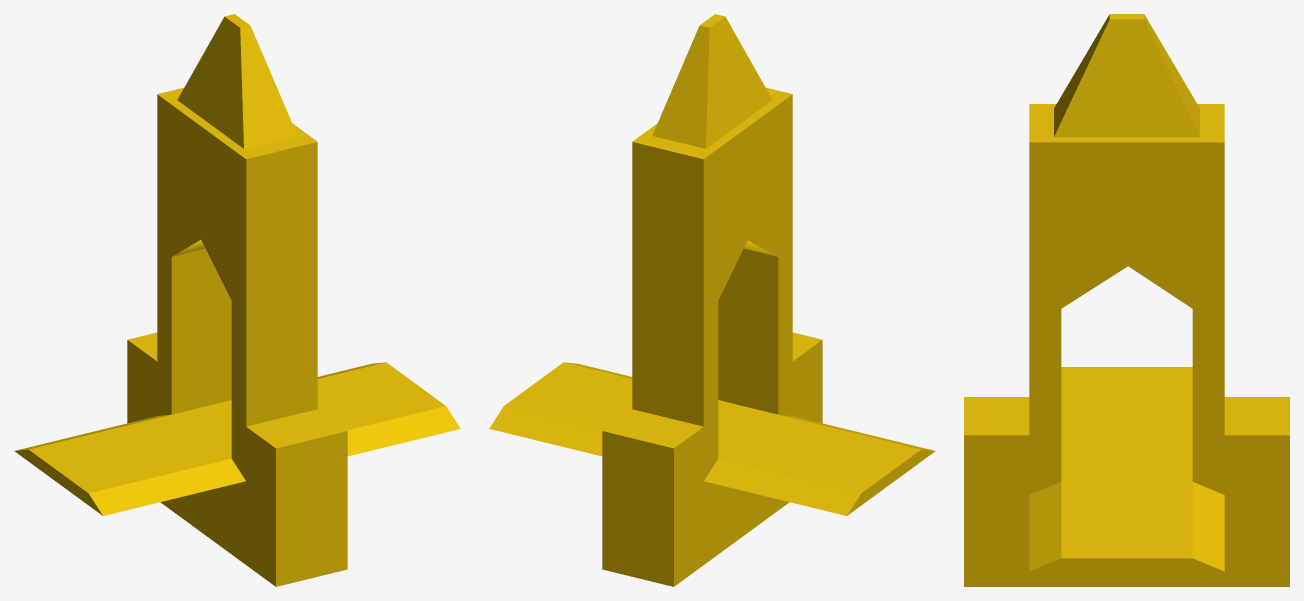
Rendered from Bridges2.fbx.
3 views of the same model, side by side, from view 1: azimuth 30°, elevation 25°; view 2: azimuth 150°, elevation 25°; view 3: azimuth 270°, elevation 25° (orthographic). The views are drawn at different scales.
Parts seen in each view (by area): view 1: Bridges2; view 2: Bridges2; view 3: Bridges2.
Part boxes in pixels (box(x1,y1,x2,y2)): Bridges2: box(14, 14, 460, 586); Bridges2: box(489, 14, 935, 586); Bridges2: box(964, 14, 1289, 586).
Size of the model in its own units: 419 by 563 by 302.
